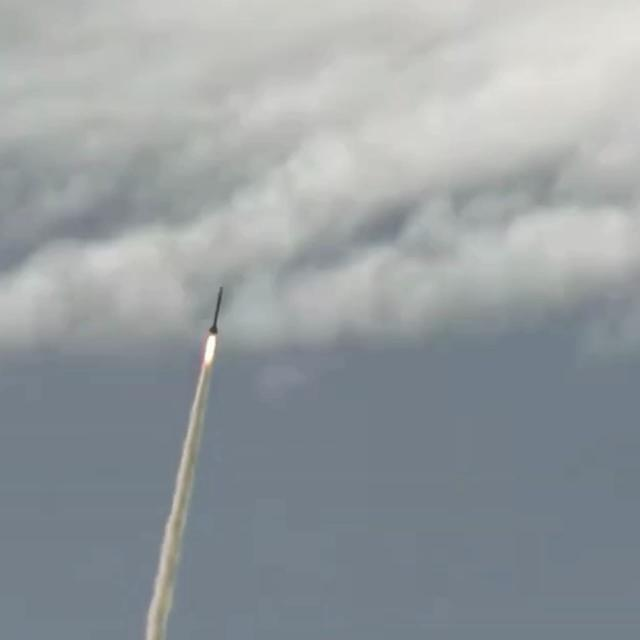smoke_trail_with_rocket: (143, 287, 223, 640)
